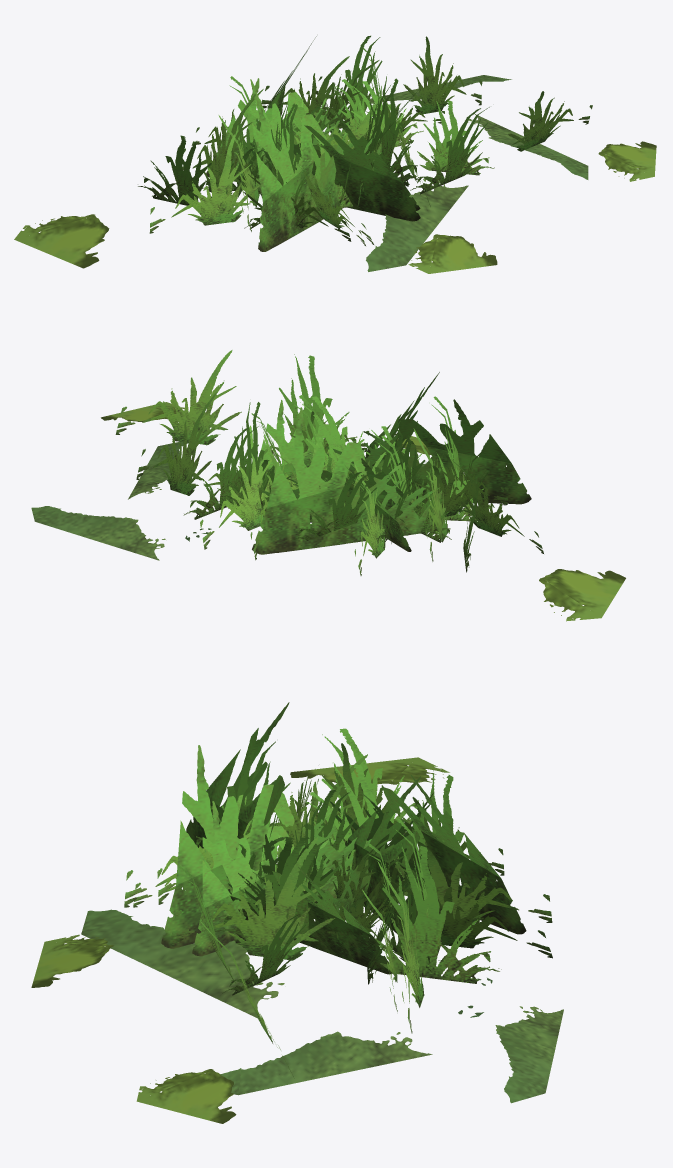
The model's file is Groupe_Herbe_05.fbx.
3 views of the same model, one above another, from view 1: azimuth 30°, elevation 25°; view 2: azimuth 150°, elevation 25°; view 3: azimuth 270°, elevation 25° (orthographic). The views are drawn at different scales.
Parts seen in each view (by area): view 1: Groupe_Herbe_05; view 2: Groupe_Herbe_05; view 3: Groupe_Herbe_05.
Boxes of the visible parts, x1,y1,x2,y2 form: Groupe_Herbe_05: [14, 35, 656, 273]; Groupe_Herbe_05: [31, 350, 625, 621]; Groupe_Herbe_05: [31, 702, 563, 1123].
Size of the model in its own units: 3.76 by 0.9651 by 2.52.
